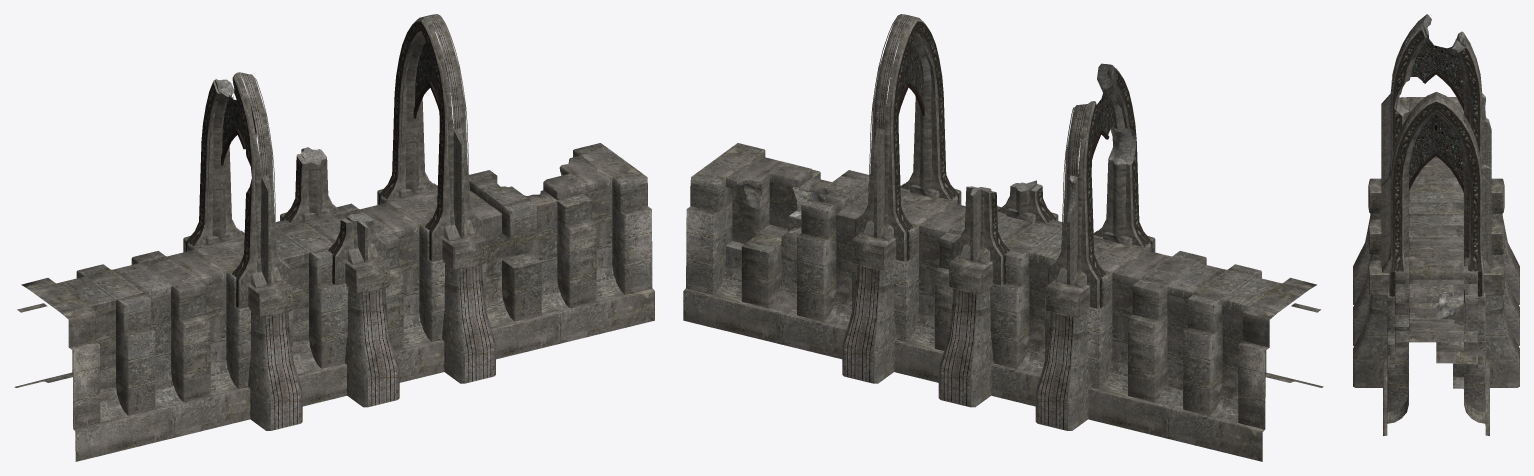
The model's file is eso_gu14_StoneRuins11-transformed.glb.
3 views of the same model, side by side, from view 1: azimuth 30°, elevation 25°; view 2: azimuth 150°, elevation 25°; view 3: azimuth 270°, elevation 25° (orthographic). The views are drawn at different scales.
Visible parts, largest first — view 1: default; view 2: default; view 3: default.
Part boxes in pixels (x1=…): default: x1=14, y1=14, x2=654, y2=461; default: x1=683, y1=14, x2=1323, y2=461; default: x1=1353, y1=14, x2=1519, y2=435.
Bounding box in the file's own units: 58.16 × 31.61 × 16.73.
4 materials, 4 textured.
